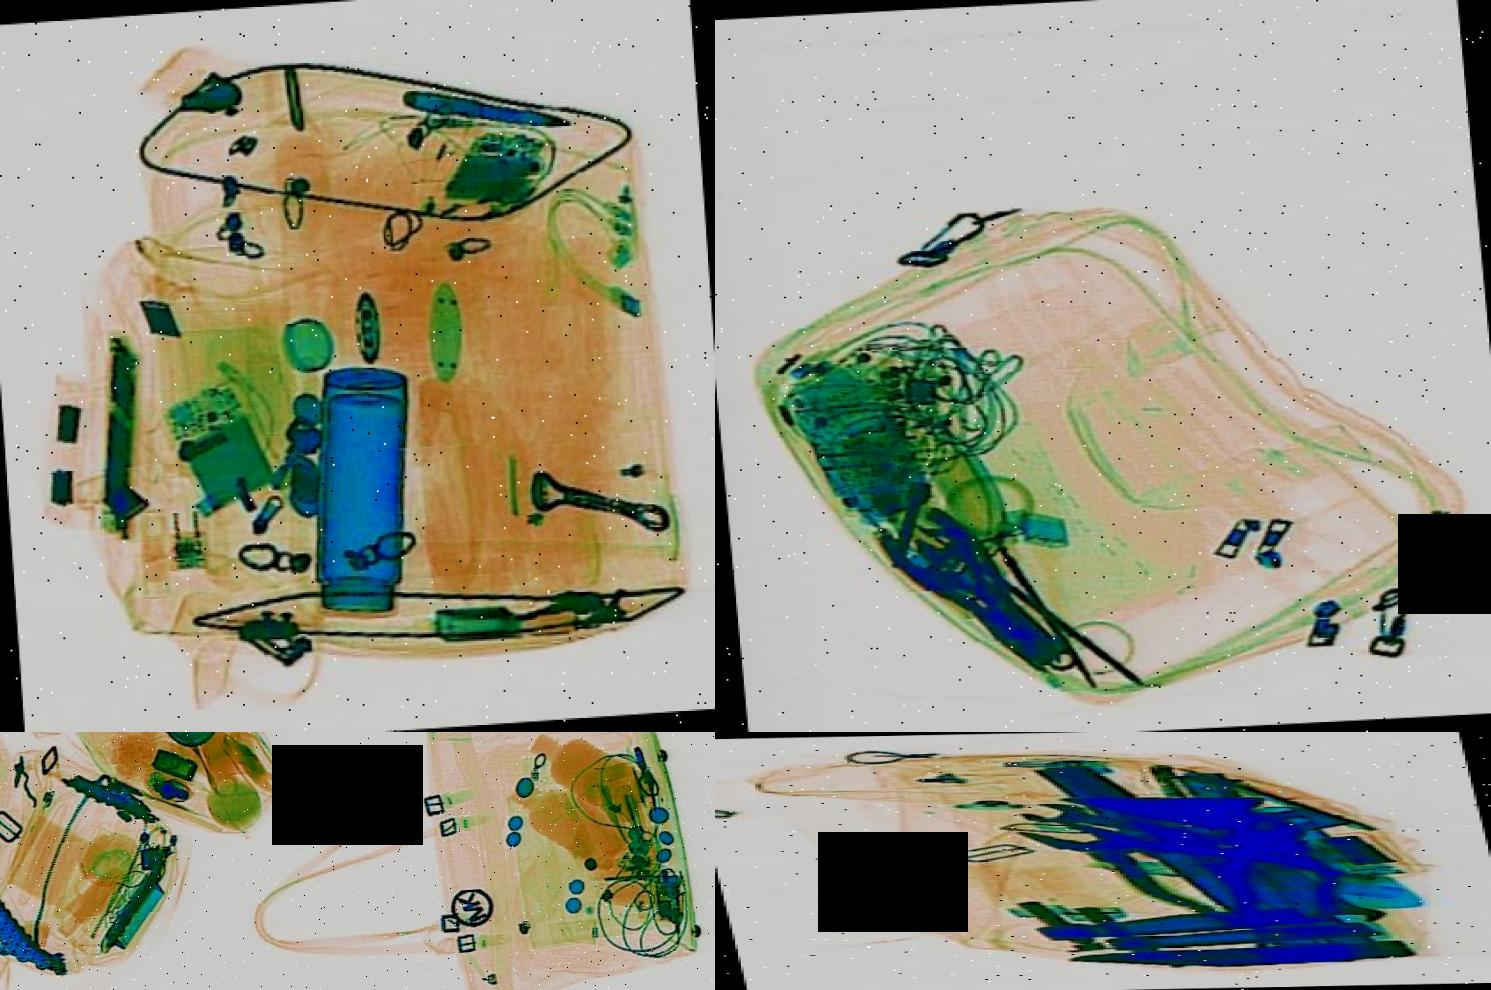Knife: (392, 71, 573, 143)
Pliers: (955, 800, 1354, 920), (868, 489, 1065, 677)
Wrench: (1001, 795, 1225, 849)
